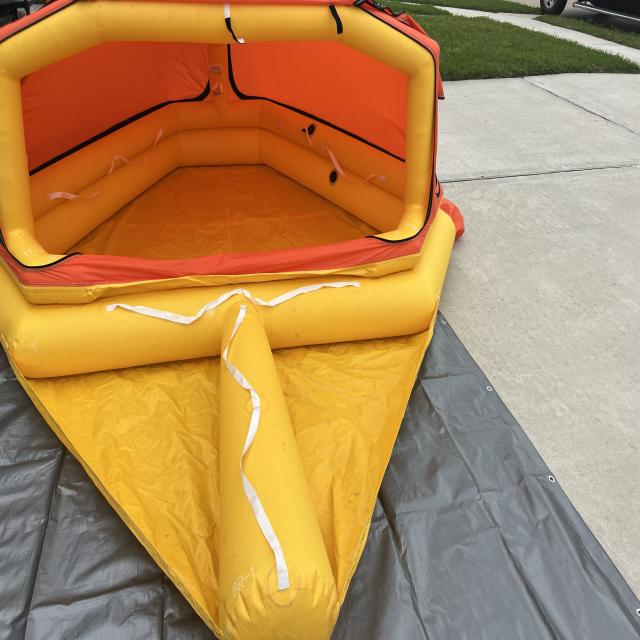Multi-person_life_raft: (0, 1, 464, 639)
